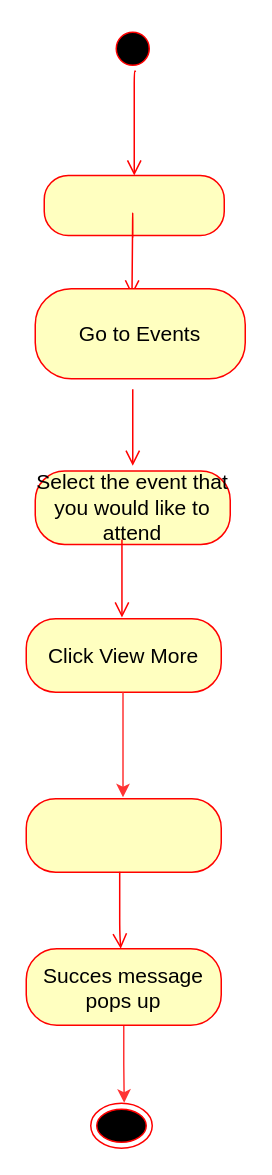
Some shapes in this 272 by 1175 pixel diagram are drawn without their labels. Here are the shapes that lost their labels. From the top down, the centre of each, then its label:
the point at 133,205: Go to Dashboard
the point at 123,834: Click Going
